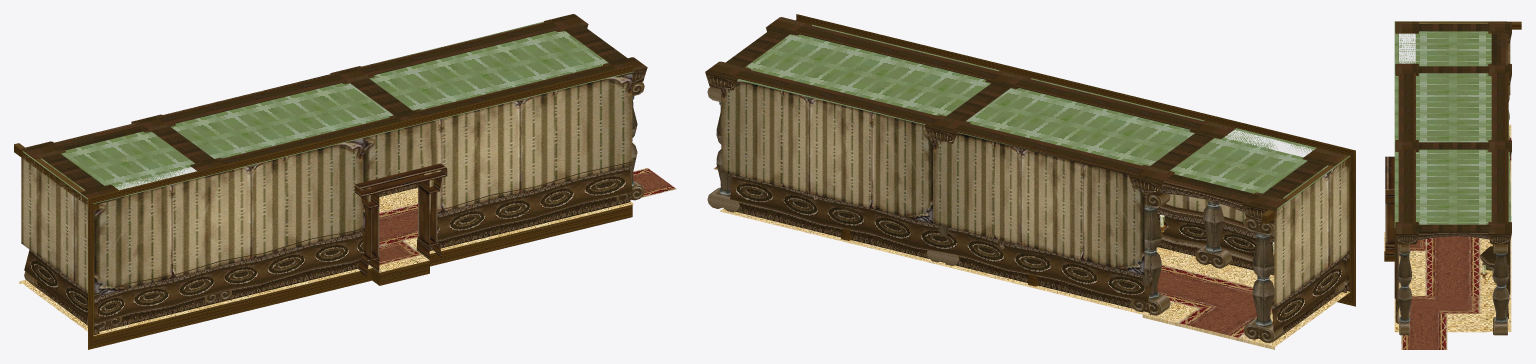
Rendered from room_31.glb.
The picture shows the model from 3 angles, left to right: view 1: azimuth 30°, elevation 25°; view 2: azimuth 150°, elevation 25°; view 3: azimuth 270°, elevation 25°; orthographic projection. The views are drawn at different scales.
Parts seen in each view (by area): view 1: room_31; view 2: room_31; view 3: room_31.
Boxes of the visible parts, <box> form: room_31: <box>14,14,676,349</box>; room_31: <box>705,14,1355,349</box>; room_31: <box>1384,21,1521,349</box>.
Bounding box in the file's own units: 2345 × 575 × 600.
25 materials, 24 textured.
